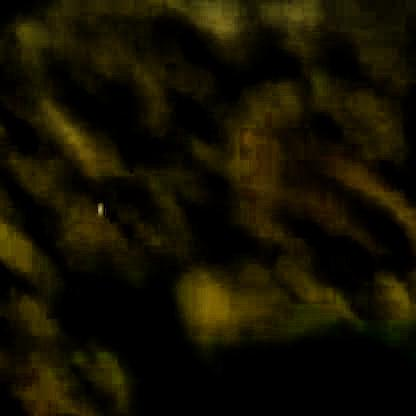golfball: (95, 196, 102, 209)
